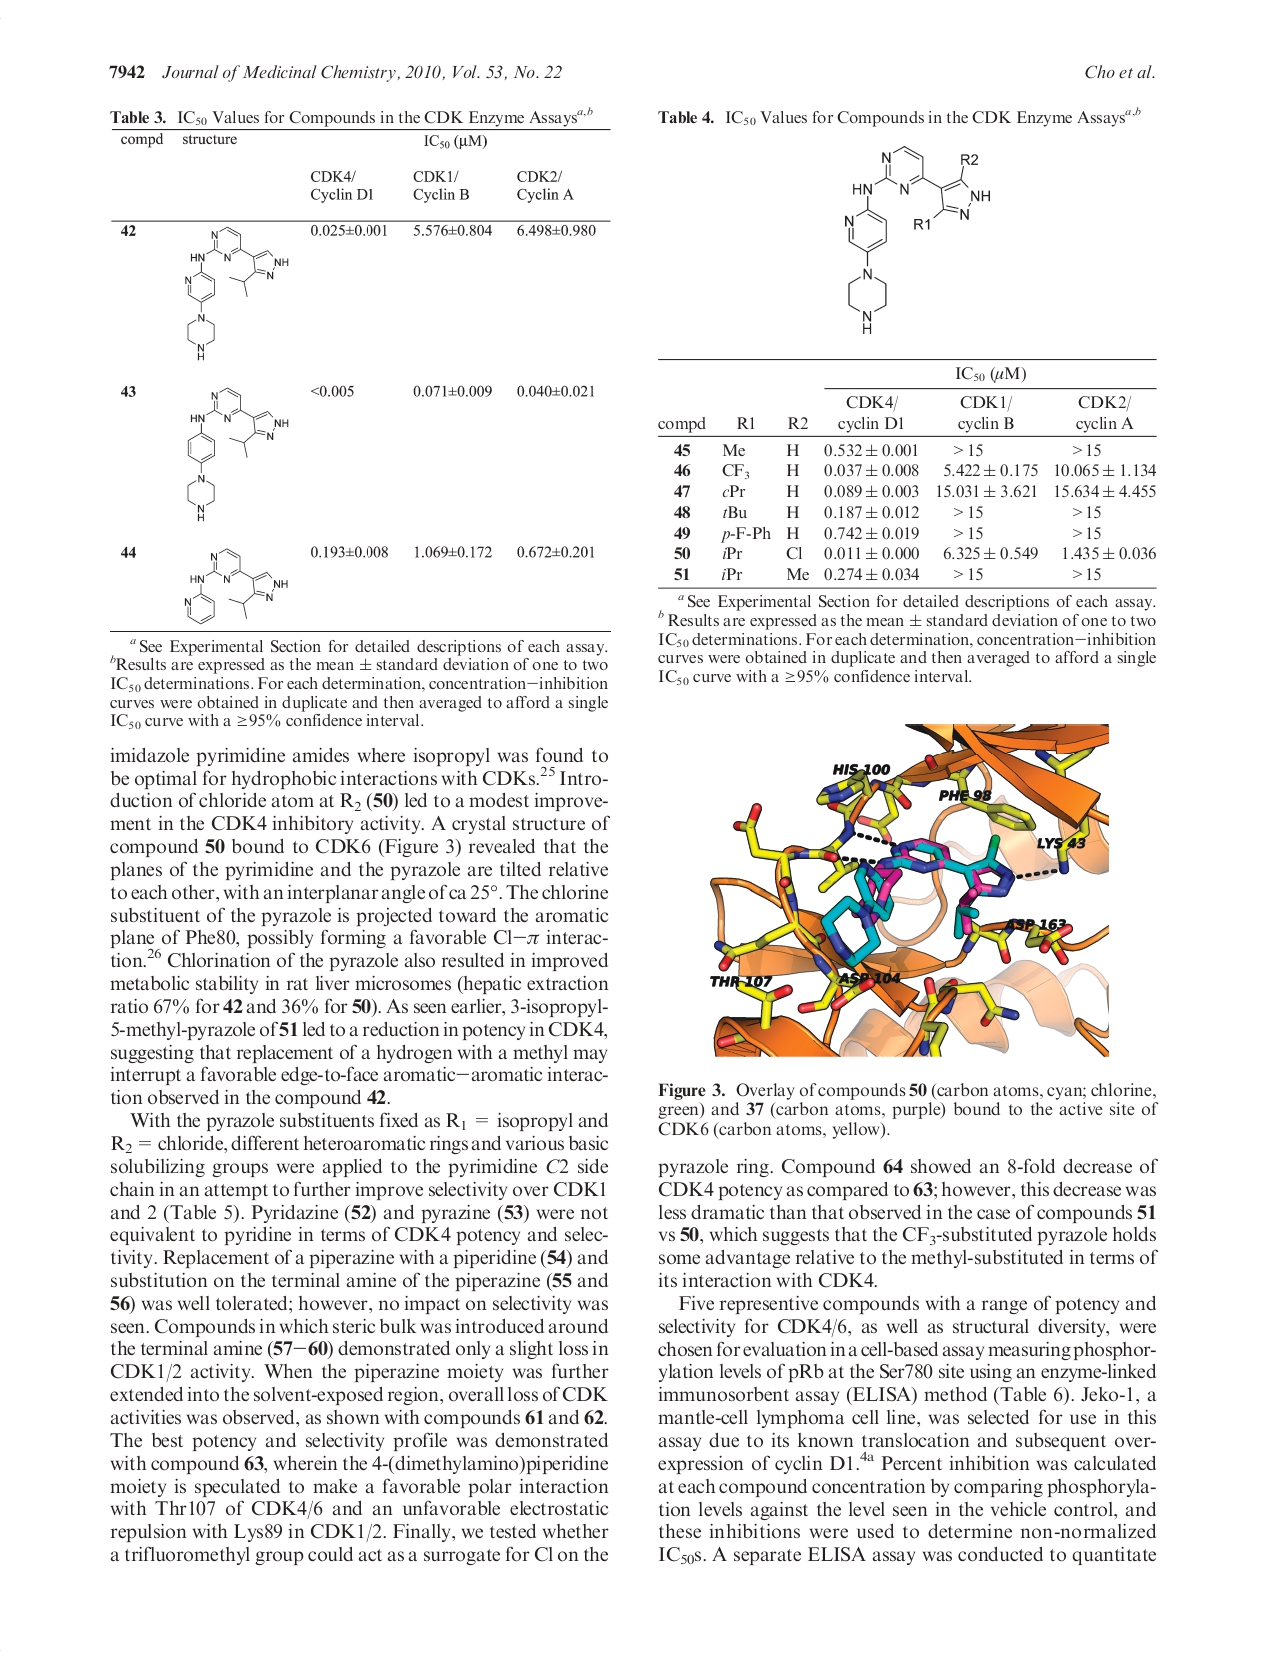exist_molecular: (842, 144, 992, 335), (184, 225, 291, 360), (186, 386, 290, 523), (184, 547, 290, 625)
